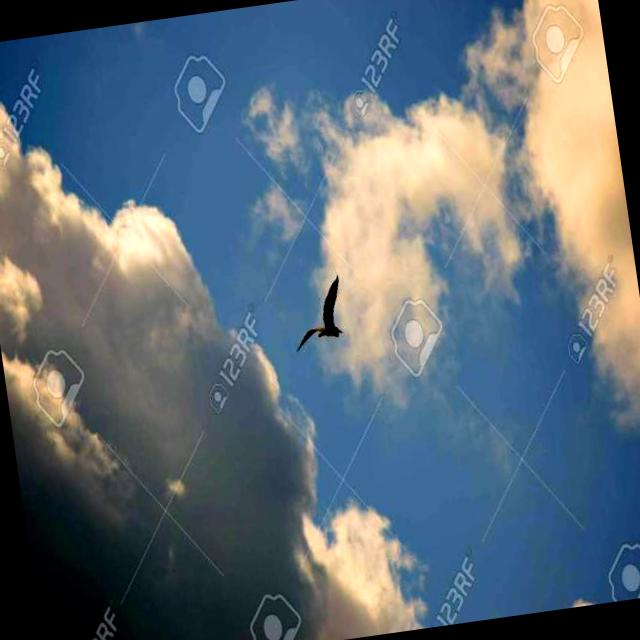bird: (292, 273, 352, 357)
